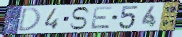4: (140, 5, 158, 30), (43, 7, 61, 31)
5: (117, 5, 140, 30)
D: (17, 7, 42, 33)
E: (89, 6, 115, 30)
S: (68, 6, 91, 31)
